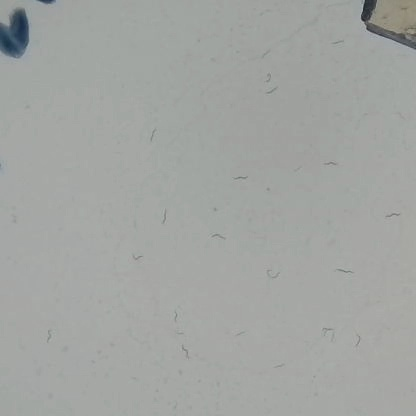worm: (319, 324, 338, 343), (142, 127, 160, 146), (331, 262, 357, 275), (260, 267, 280, 283), (207, 230, 229, 244), (177, 344, 194, 361), (350, 331, 366, 349), (231, 172, 251, 186), (269, 358, 288, 372), (126, 252, 146, 265), (159, 205, 172, 224), (43, 328, 57, 343), (231, 328, 250, 339), (392, 110, 408, 123), (326, 36, 346, 46), (263, 85, 281, 96), (258, 46, 271, 61), (256, 7, 273, 18), (261, 71, 275, 84), (383, 210, 402, 219), (322, 158, 337, 169), (172, 305, 181, 323), (292, 162, 303, 175), (172, 329, 187, 336)
